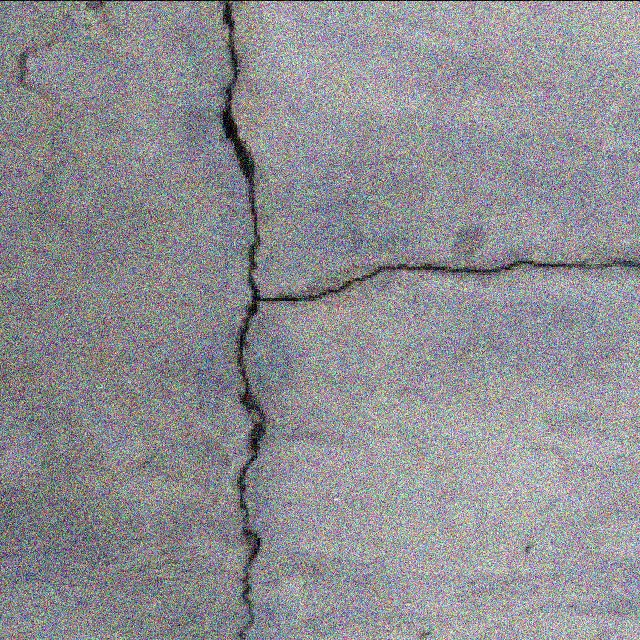SurfaceCrack: (172, 0, 320, 640), (226, 228, 640, 322)
